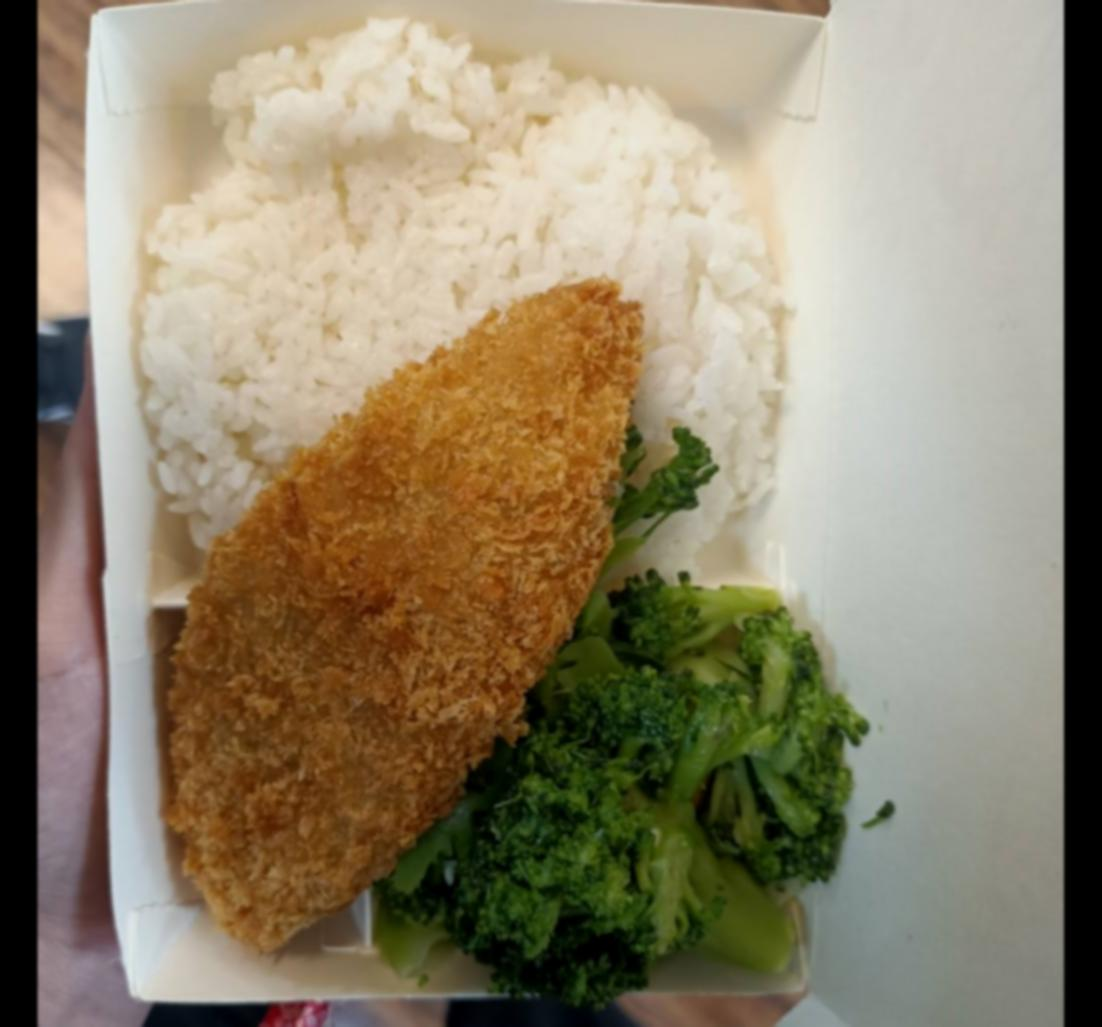box: (82, 0, 851, 1027)
fried cod steak: (153, 360, 632, 930)
side dish: (496, 590, 812, 984)
white rice: (139, 58, 798, 566)
